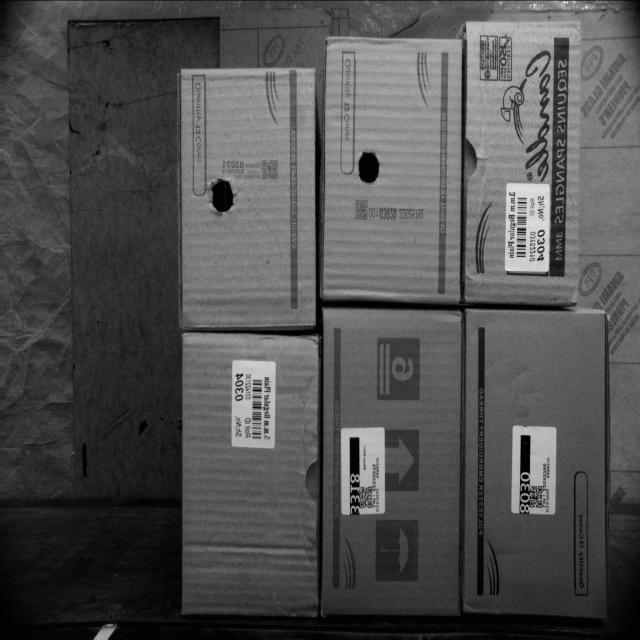cardboxes: (461, 311, 608, 626), (319, 306, 459, 626), (180, 331, 318, 623), (175, 66, 318, 329), (322, 35, 459, 306), (462, 18, 581, 305)
